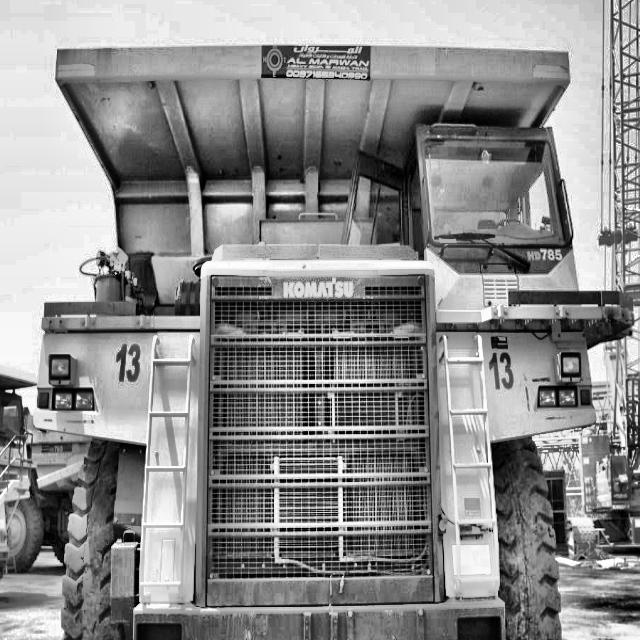dump_truck: (32, 33, 638, 640)
